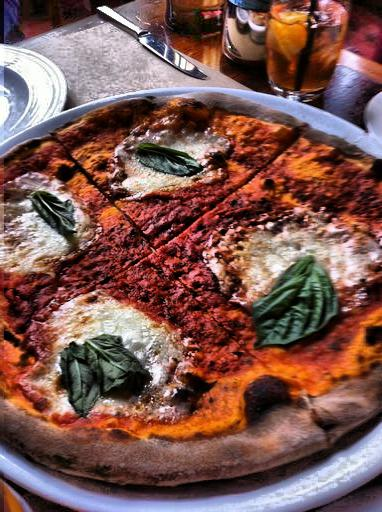pizza: (2, 97, 382, 467)
